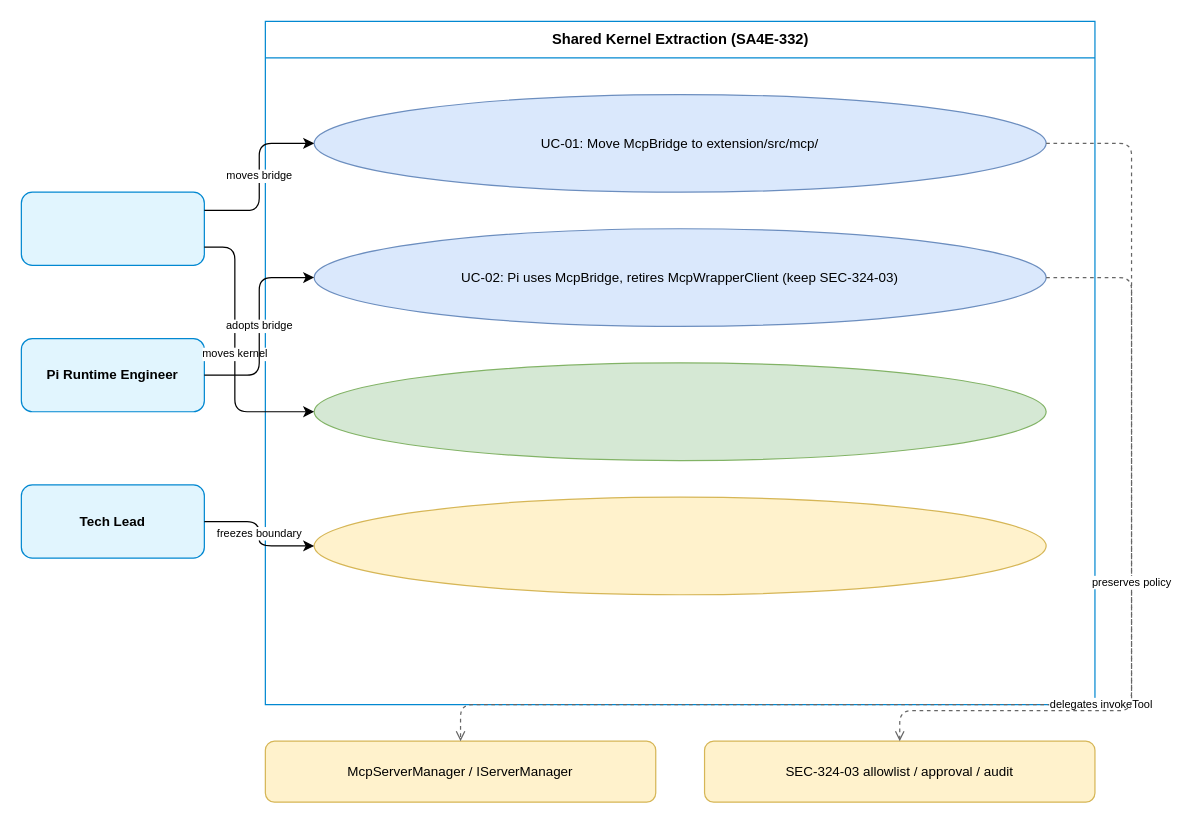
This 1192x824 diagram has some shape labels left out. The shapes that lost their labels are listed below. From the top down, each one's centre as x and y in pixels, then its label:
At point (112, 228): "Platform Engineer".
At point (679, 411): "UC-03: Move providers / llm-provider / stream-handler / types / budget".
At point (679, 545): "UC-04: Lint ban on langgraph/ + README FROZEN + no hard-coded tokens".
